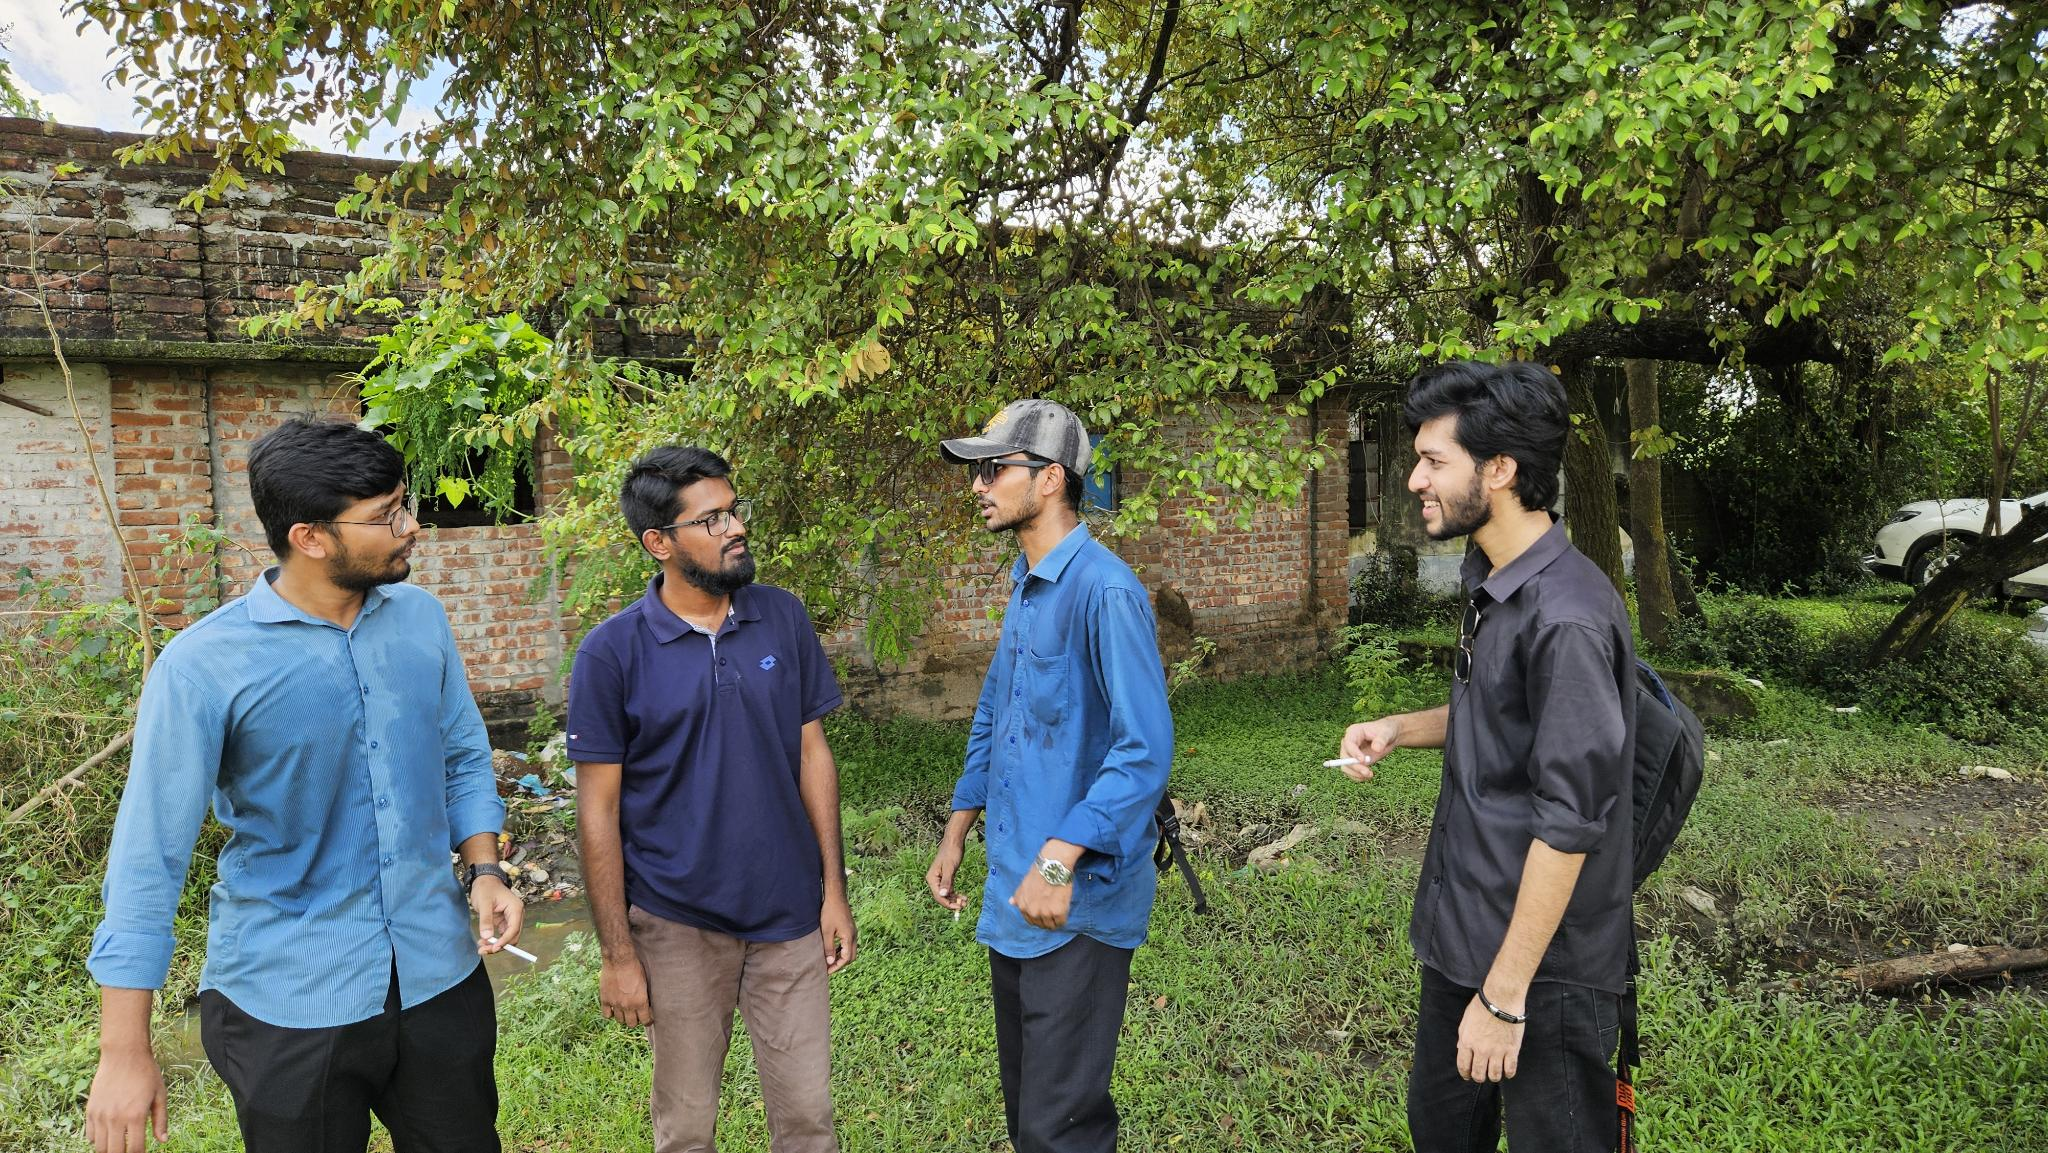cigarette: (484, 934, 540, 967), (1318, 754, 1373, 771), (952, 896, 965, 927)
nonSmoker: (567, 446, 858, 1153)
smoker: (84, 425, 525, 1153), (1340, 361, 1703, 1153), (924, 399, 1175, 1153)
